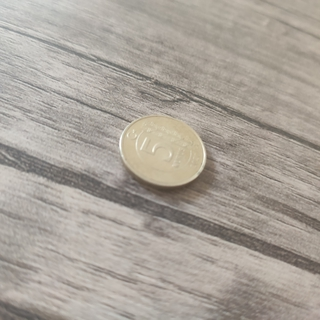5KURUS: (117, 110, 208, 190)
